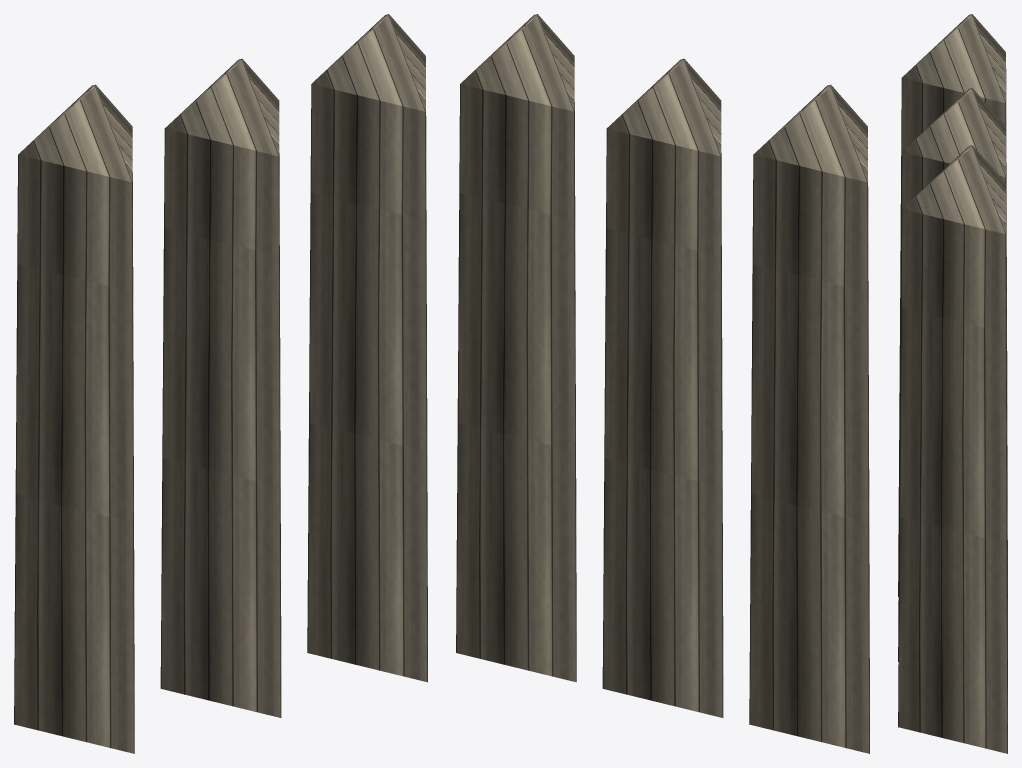
The model's file is Palisade_Stake_1_LOD2.gltf.
3 renders of one model, left to right at view 1: azimuth 30°, elevation 25°; view 2: azimuth 150°, elevation 25°; view 3: azimuth 270°, elevation 25°, orthographic. The views are drawn at different scales.
Visible parts, largest first — view 1: Palisade_Stake_1_LOD2; view 2: Palisade_Stake_1_LOD2; view 3: Palisade_Stake_1_LOD2.
Boxes of the visible parts, box(x1,y1,x2,y2) form: Palisade_Stake_1_LOD2: box(14, 14, 427, 753); Palisade_Stake_1_LOD2: box(456, 14, 869, 753); Palisade_Stake_1_LOD2: box(898, 14, 1007, 753).
Bounding box in the file's own units: 1.88 × 2.78 × 0.475.
Materials: 1 (1 with a texture image).
